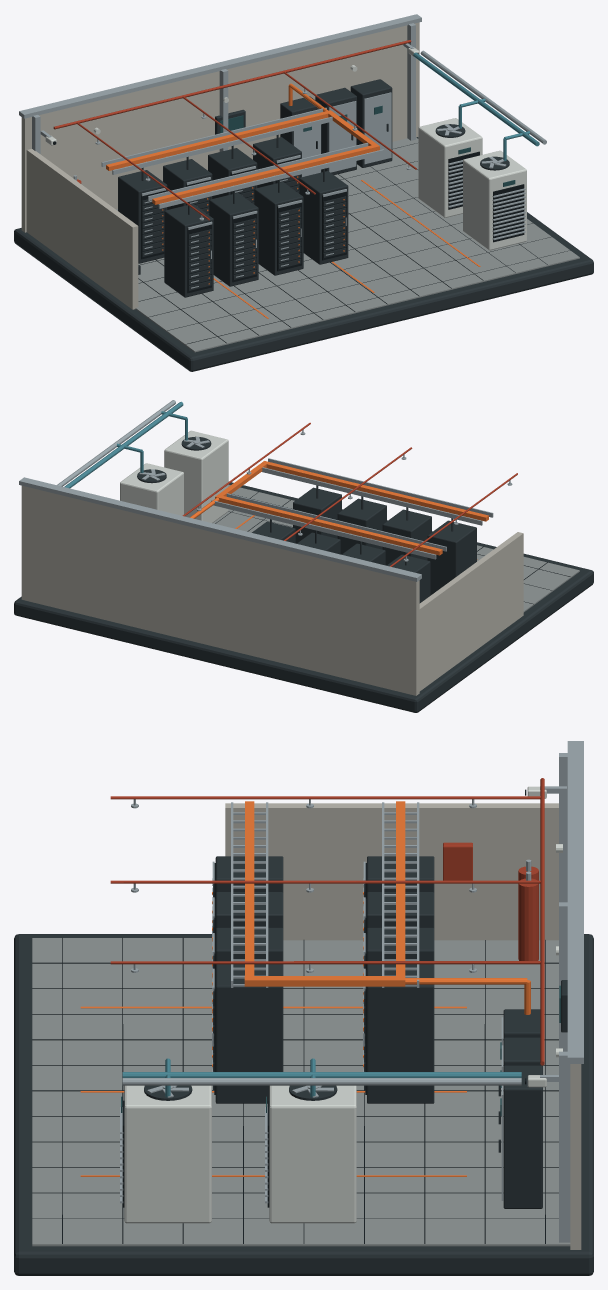
Rendered from data-centre-mobile.glb.
3 views of the same model, one above another, from view 1: azimuth 30°, elevation 25°; view 2: azimuth 150°, elevation 25°; view 3: azimuth 270°, elevation 25° (orthographic). The views are drawn at different scales.
Visible parts, largest first — view 1: Power, Architecture_RaisedFloor, Architecture_RearWall, Cooling, Architecture_Foundation, Architecture_LeftWall, Architecture_RearCoping, Architecture_FloorJoints, Protection, Architecture_Structure_5.85, Architecture; view 2: Architecture_RearWall, Power, Architecture_Foundation, Architecture_LeftWall, Cooling, Architecture_RearCoping, Architecture_RaisedFloor, Protection; view 3: Architecture_RaisedFloor, Power, Cooling, Architecture_LeftWall, Architecture_Foundation, Protection, Architecture_FloorJoints, Architecture_RearCoping, Architecture_Structure_5.85, Architecture_RearWall, Power_DistributionLink, Architecture_Structure_-5.85 (+5 smaller).
Boxes of the visible parts, x1=… form: Power: x1=101, y1=79, x2=392, y2=297; Architecture_RaisedFloor: x1=116, y1=137, x2=579, y2=352; Architecture_RearWall: x1=21, y1=22, x2=419, y2=232; Cooling: x1=413, y1=50, x2=546, y2=250; Architecture_Foundation: x1=14, y1=137, x2=593, y2=371; Architecture_LeftWall: x1=26, y1=149, x2=138, y2=309; Architecture_RearCoping: x1=19, y1=14, x2=421, y2=118; Architecture_FloorJoints: x1=138, y1=143, x2=570, y2=344; Protection: x1=53, y1=40, x2=416, y2=220; Architecture_Structure_5.85: x1=407, y1=23, x2=415, y2=140; Architecture: x1=219, y1=69, x2=228, y2=151; Architecture_RearWall: x1=21, y1=485, x2=419, y2=695; Power: x1=211, y1=458, x2=493, y2=603; Architecture_Foundation: x1=14, y1=482, x2=593, y2=712; Architecture_LeftWall: x1=419, y1=532, x2=523, y2=691; Cooling: x1=57, y1=400, x2=228, y2=523; Architecture_RearCoping: x1=19, y1=477, x2=421, y2=581; Architecture_RaisedFloor: x1=213, y1=485, x2=579, y2=612; Protection: x1=182, y1=422, x2=517, y2=566; Architecture_RaisedFloor: x1=32, y1=938, x2=570, y2=1246; Power: x1=212, y1=801, x2=542, y2=1208; Cooling: x1=120, y1=1058, x2=521, y2=1223; Architecture_LeftWall: x1=225, y1=803, x2=558, y2=940; Architecture_Foundation: x1=14, y1=934, x2=593, y2=1275; Protection: x1=110, y1=778, x2=544, y2=1065; Architecture_FloorJoints: x1=32, y1=937, x2=558, y2=1243; Architecture_RearCoping: x1=567, y1=741, x2=583, y2=1063; Architecture_Structure_5.85: x1=559, y1=1051, x2=570, y2=1242; Architecture_RearWall: x1=570, y1=1064, x2=581, y2=1249; Power_DistributionLink: x1=244, y1=976, x2=405, y2=986; Architecture_Structure_-5.85: x1=559, y1=753, x2=567, y2=902.
Bounding box in the file's own units: 12.6 × 3.98 × 9.6.
